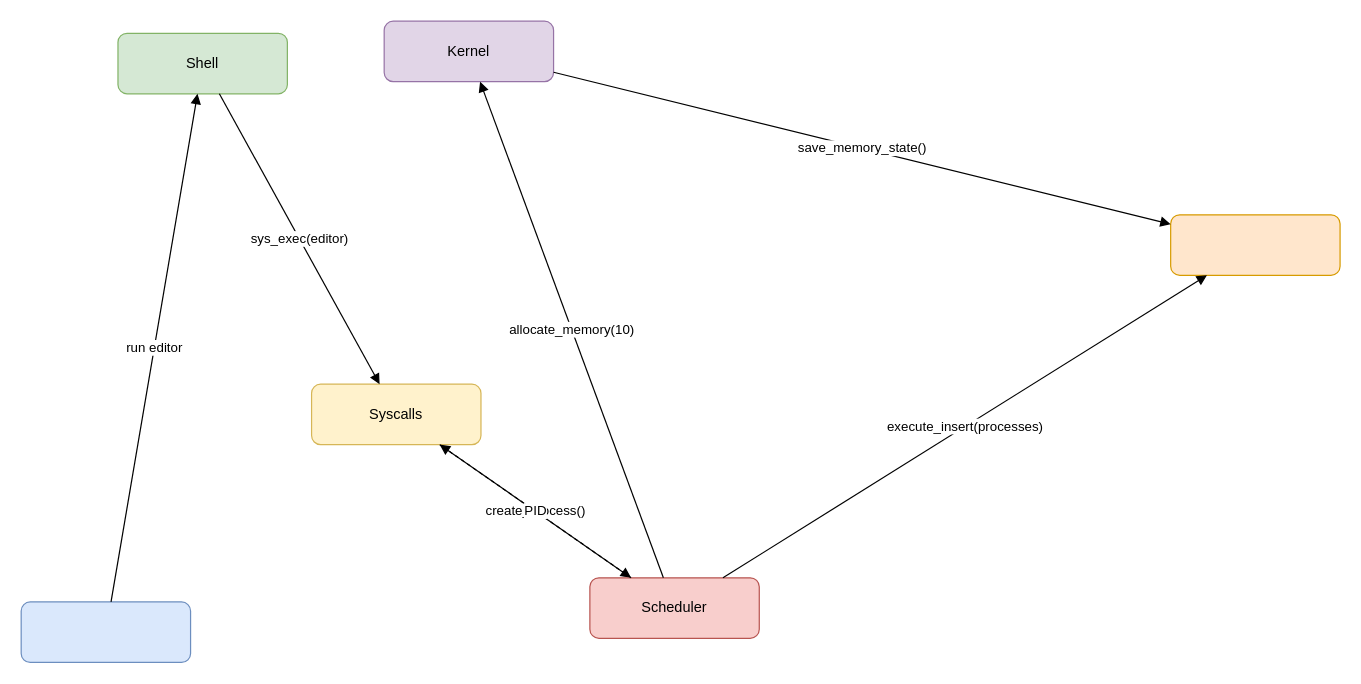
Image size: 1361x684. Some labels were removed from this diagram. The shapes that lost their labels are listed below. From the top down, each one's box as (x1, y1, x2, y2) in pixels, then its label:
(1169, 214, 1340, 275): DB
(20, 601, 191, 662): Пользователь
